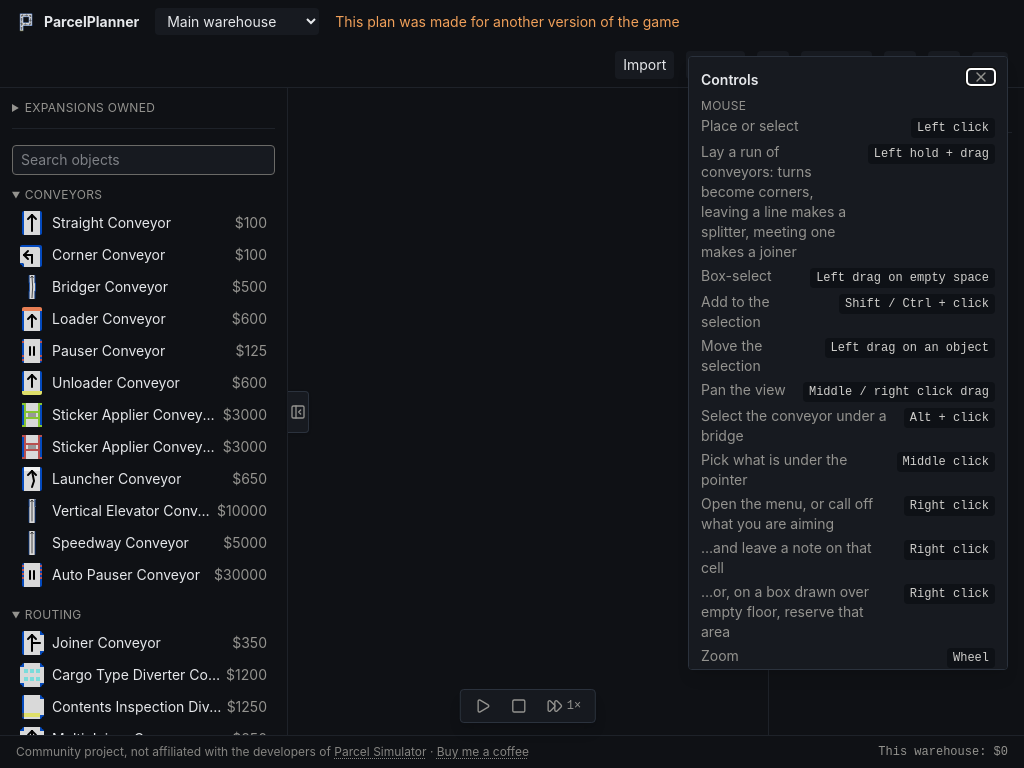
Test: the side panels › close and open again from the canvas edge
Expected: the field with placeholder "Search objects" is shown, [12,145,275,175]
Click the button named "hide the object list".
click(298, 412)  # box [288,390,309,432]
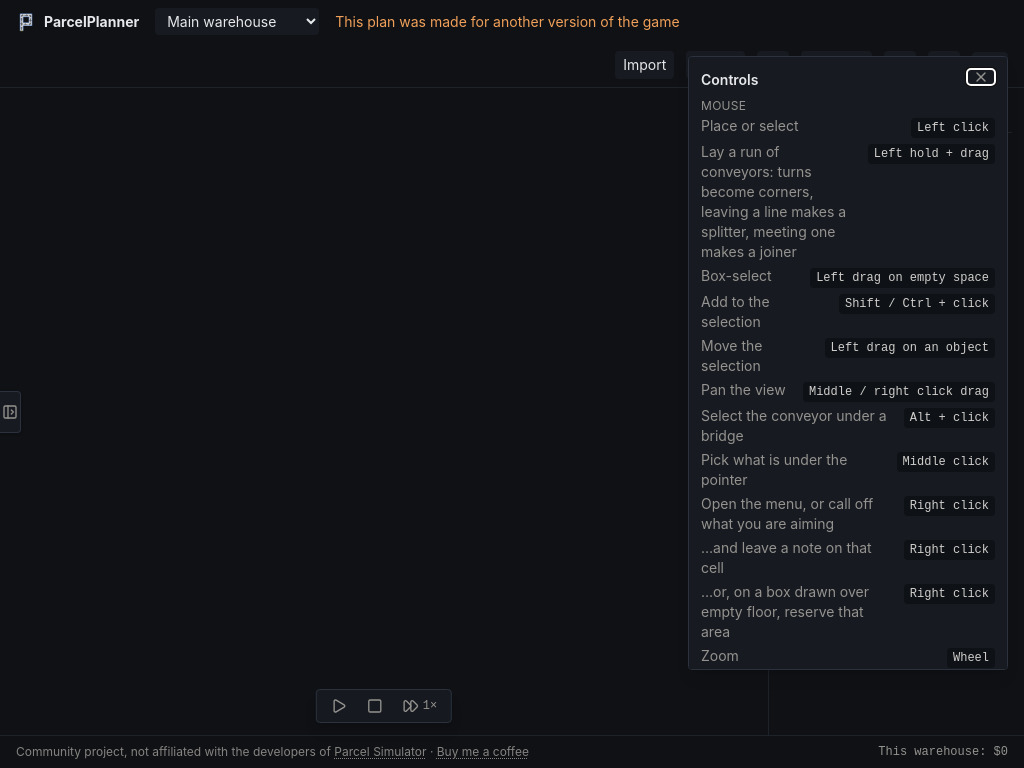
Expected: the field with placeholder "search" is not shown
Click the button named "show the object list".
click(10, 412)  # box [0,390,21,432]
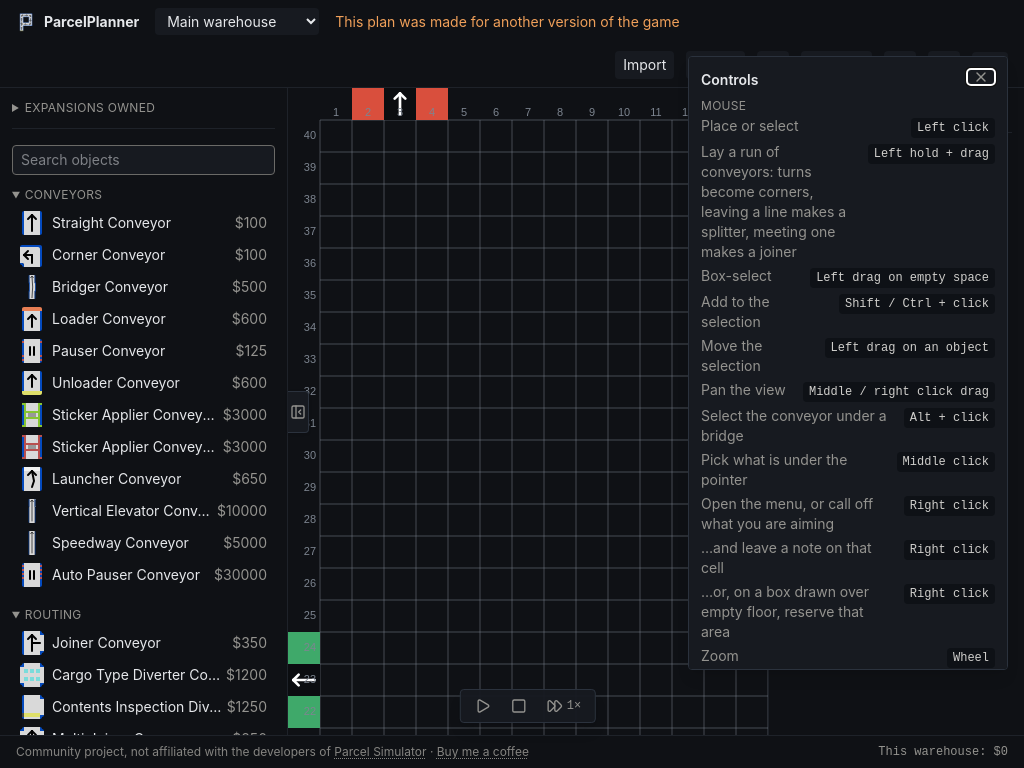
Result: the field with placeholder "Search objects" is shown at [12,145,275,175]
